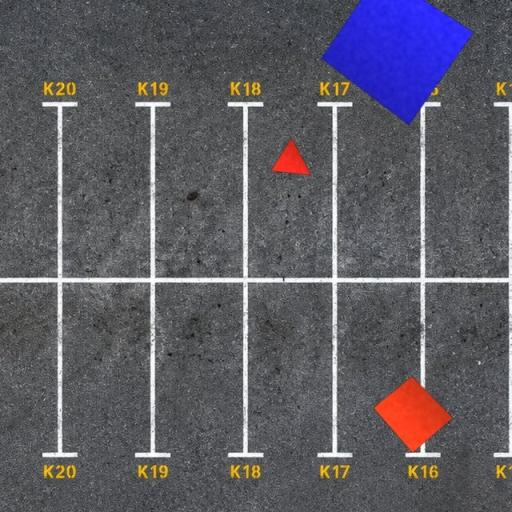BLUE_SQUARE: (321, 0, 475, 126)
RED_SQUARE: (372, 375, 454, 454)
